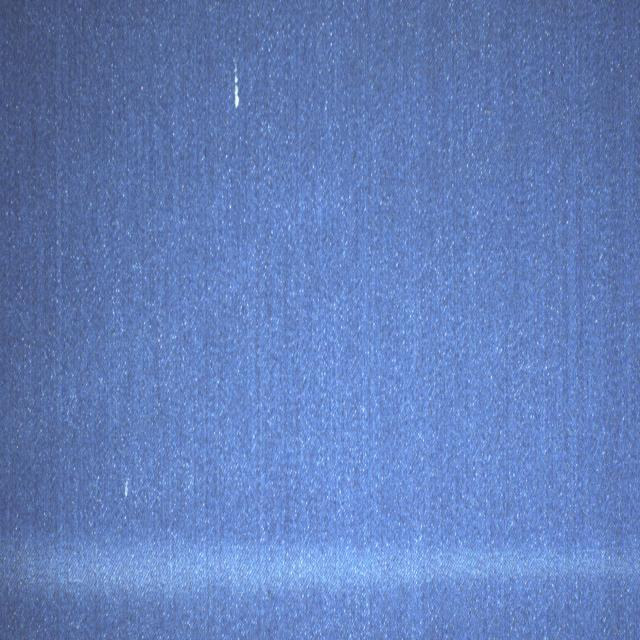Knot: (234, 58, 240, 108)
